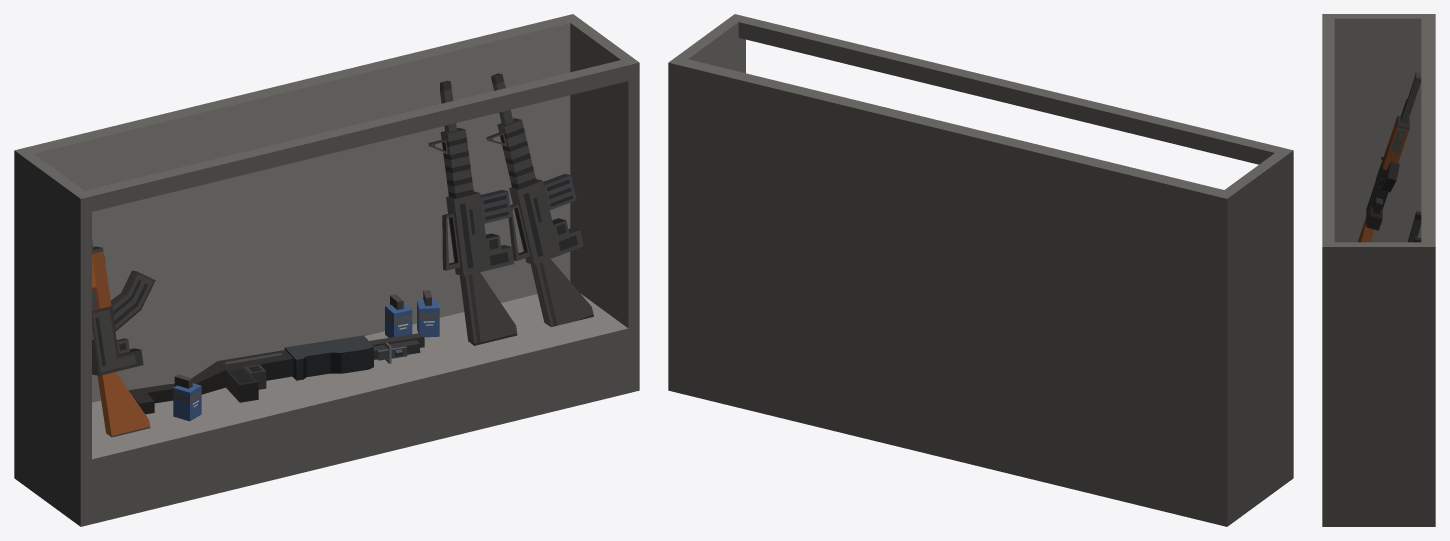
The model's file is AI_Prop_Guns_Cabinet_04.fbx.
3 renders of one model, left to right at view 1: azimuth 30°, elevation 25°; view 2: azimuth 150°, elevation 25°; view 3: azimuth 270°, elevation 25°, orthographic. The views are drawn at different scales.
Parts seen in each view (by area): view 1: AI_Prop_Guns_Cabinet_04; view 2: AI_Prop_Guns_Cabinet_04; view 3: AI_Prop_Guns_Cabinet_04.
Part boxes in pixels (bbox=[...]): AI_Prop_Guns_Cabinet_04: bbox=[14, 14, 639, 526]; AI_Prop_Guns_Cabinet_04: bbox=[668, 14, 1293, 526]; AI_Prop_Guns_Cabinet_04: bbox=[1322, 14, 1435, 526].
Size of the model in its own units: 4.85 by 2.72 by 0.9983.
